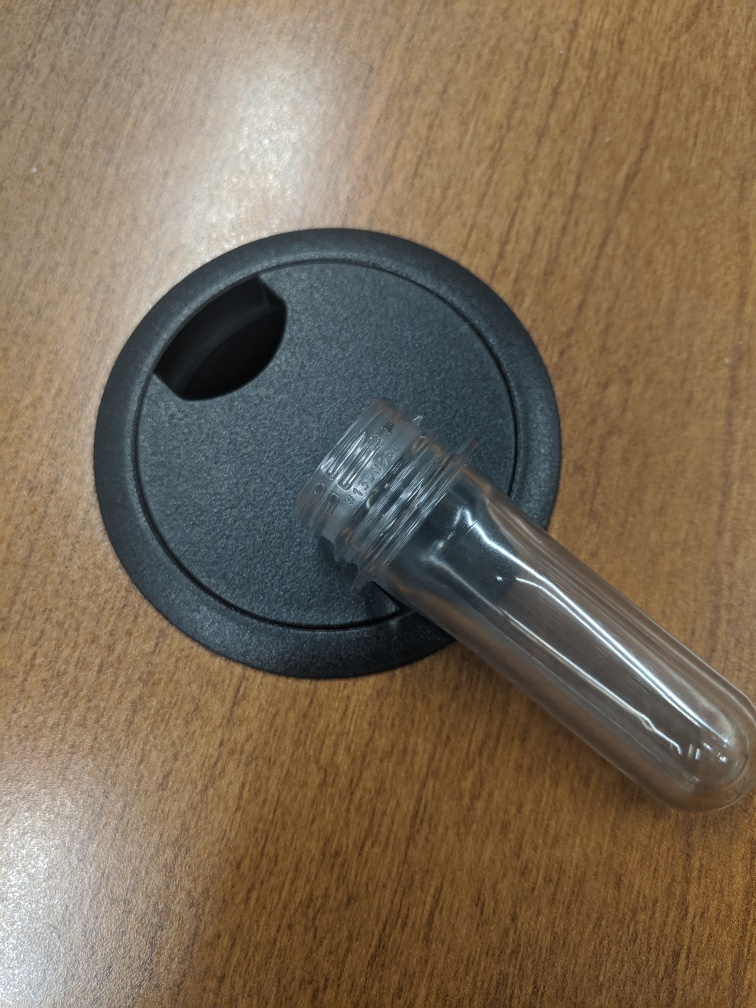preform: (283, 387, 756, 822)
